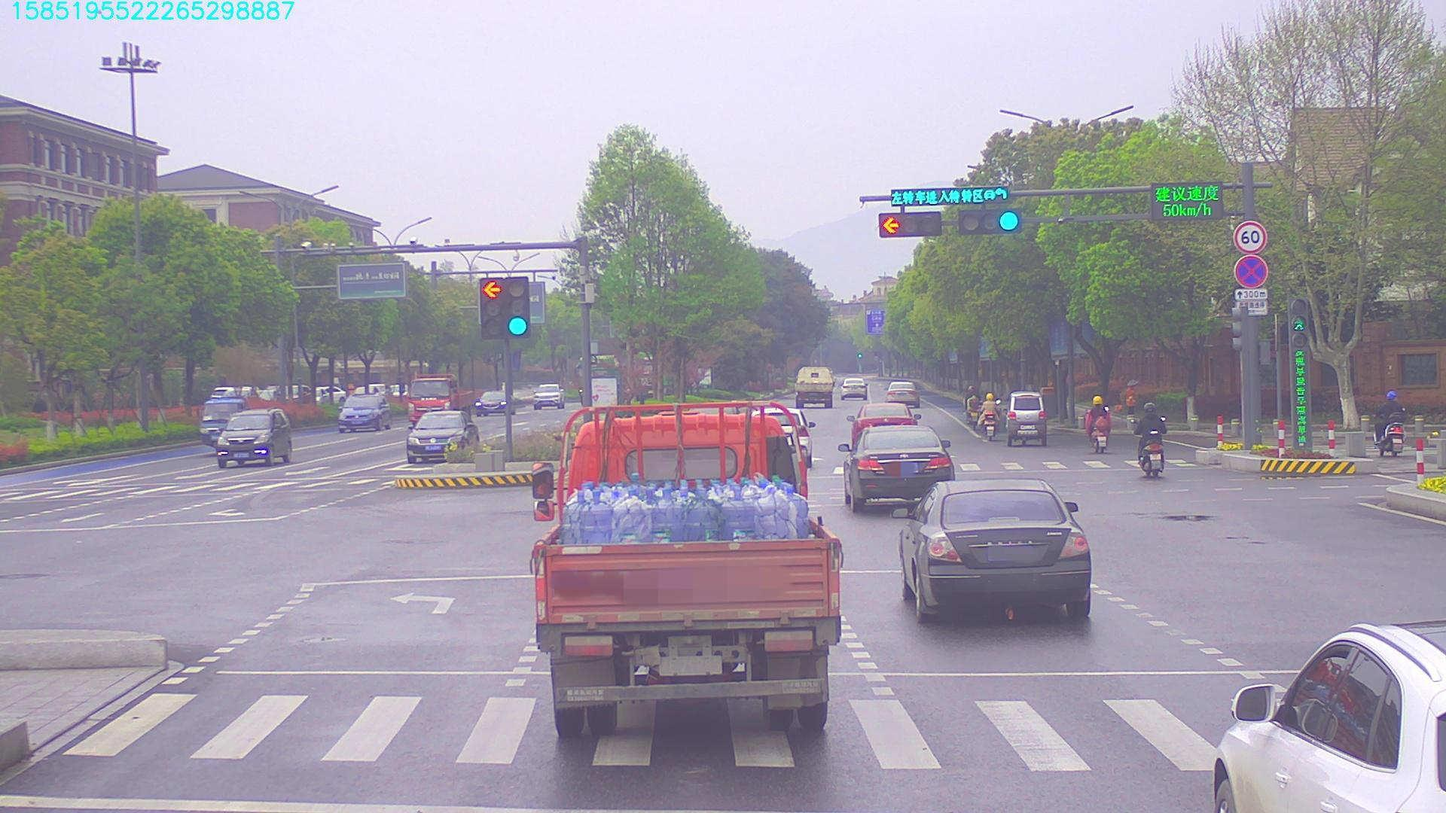green: (959, 209, 1023, 237)
red: (875, 212, 943, 235)
wait_on: (892, 184, 1012, 202)
